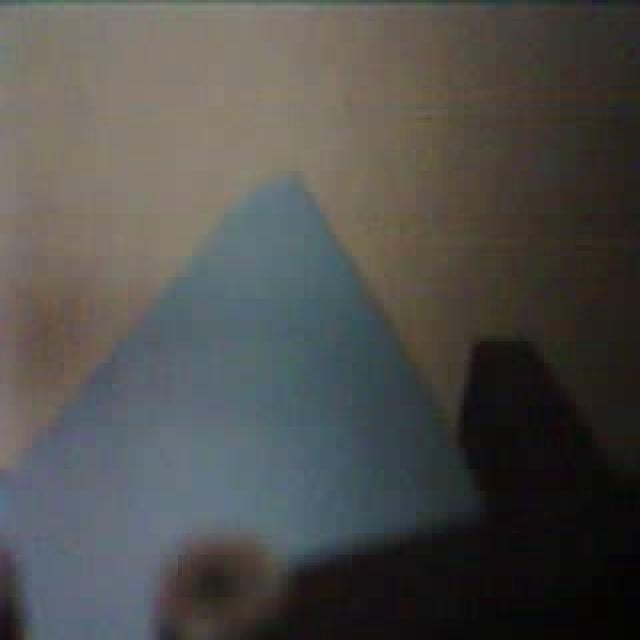blue_box: (0, 165, 482, 638)
